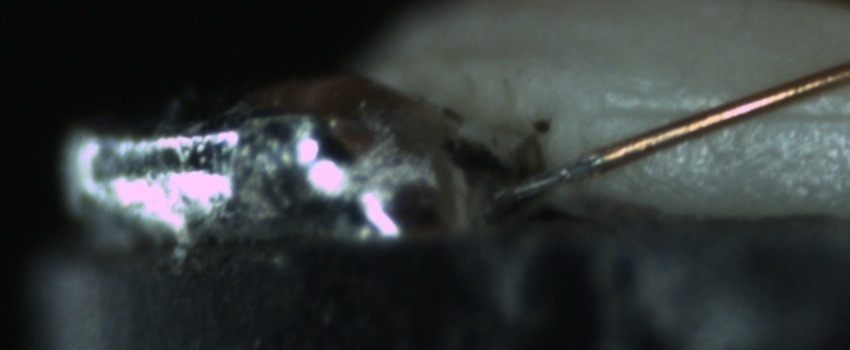DL: (603, 80, 849, 144)
TS: (498, 151, 600, 207)
TTCW: (497, 136, 639, 202)
